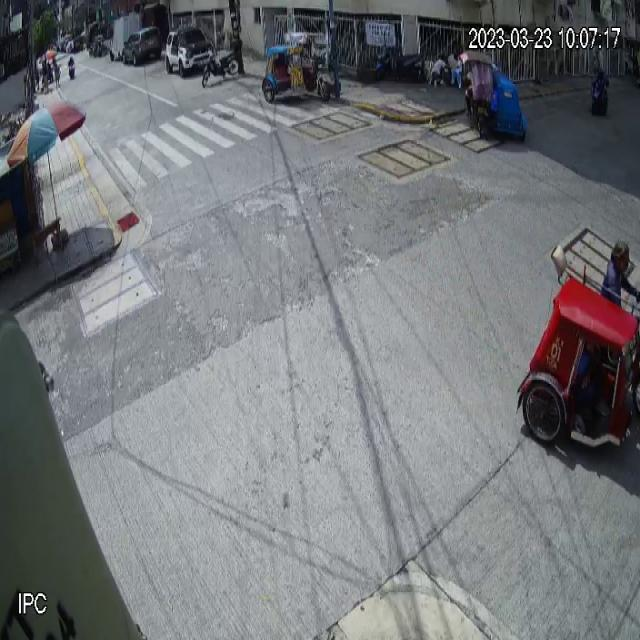Tricycle: (516, 243, 640, 452), (460, 49, 528, 145), (262, 31, 332, 102)
